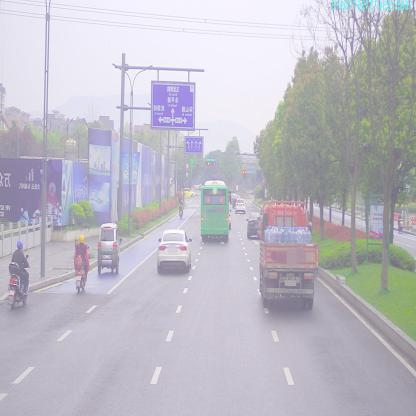traffic-light: (204, 157, 216, 162), (204, 161, 212, 167), (212, 162, 216, 166)
